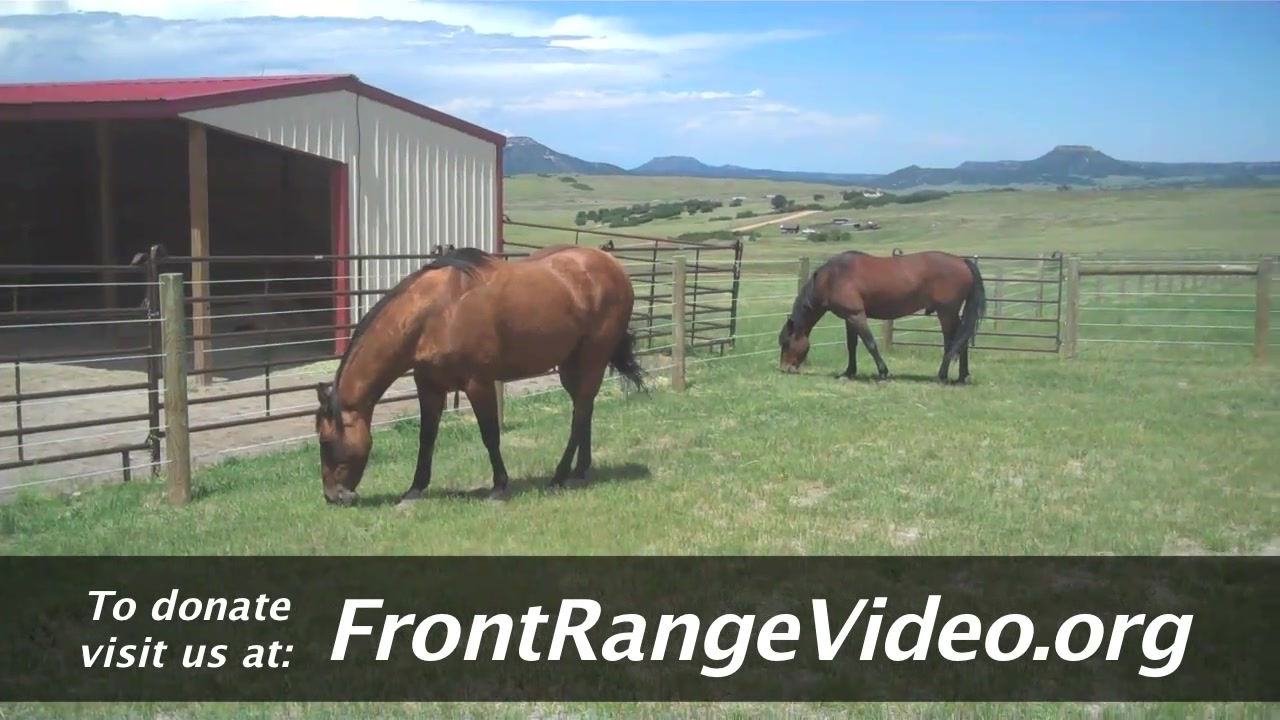horse: (314, 242, 652, 512), (774, 251, 994, 386)
